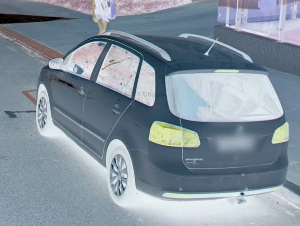car: (35, 32, 289, 211)
